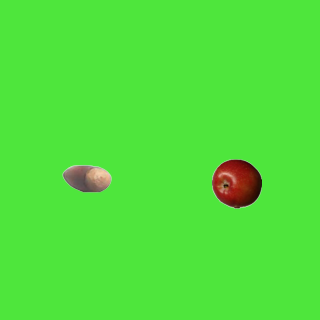Apple Braeburn: (211, 158, 261, 208)
Hazelnut: (61, 153, 111, 203)
